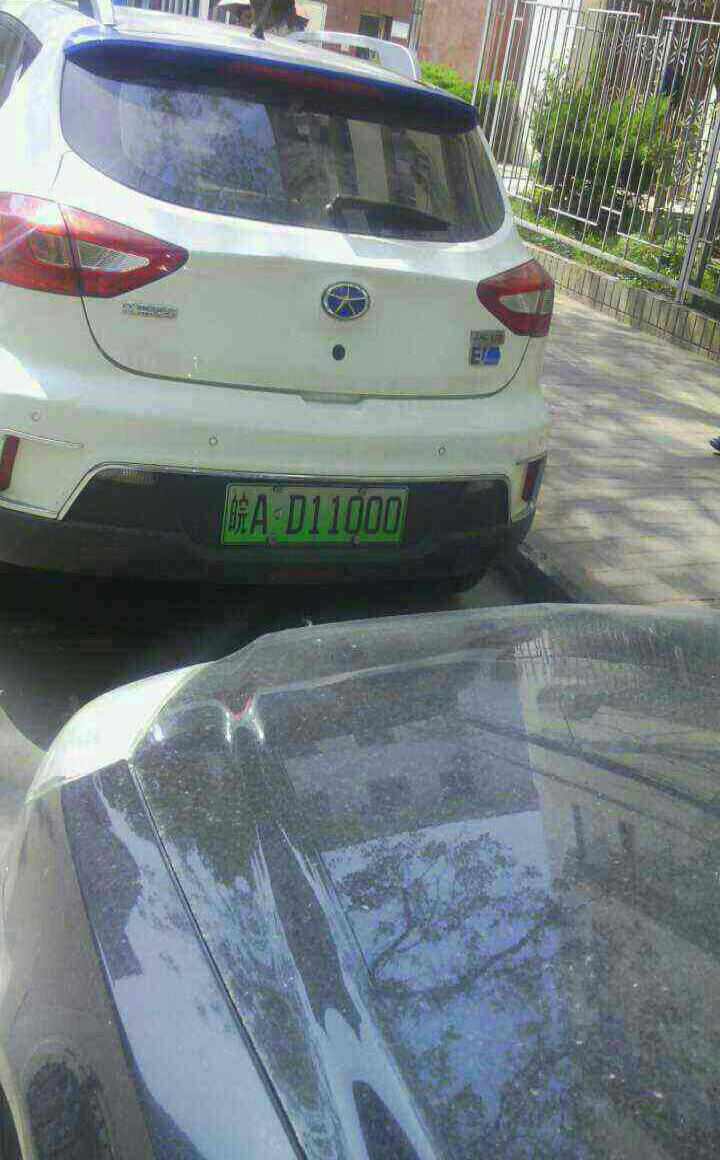car_id: (219, 484, 408, 543)
